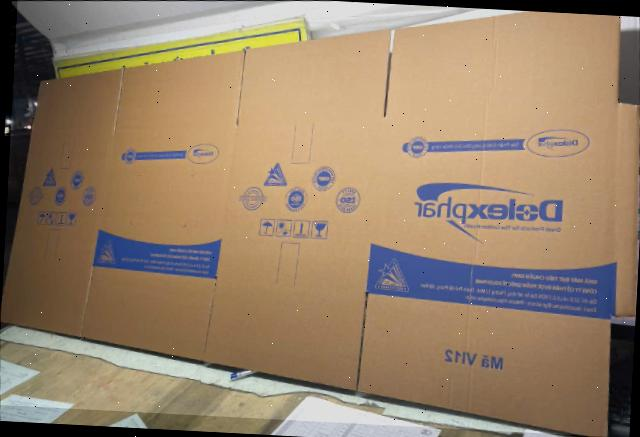box: (0, 11, 640, 436)
